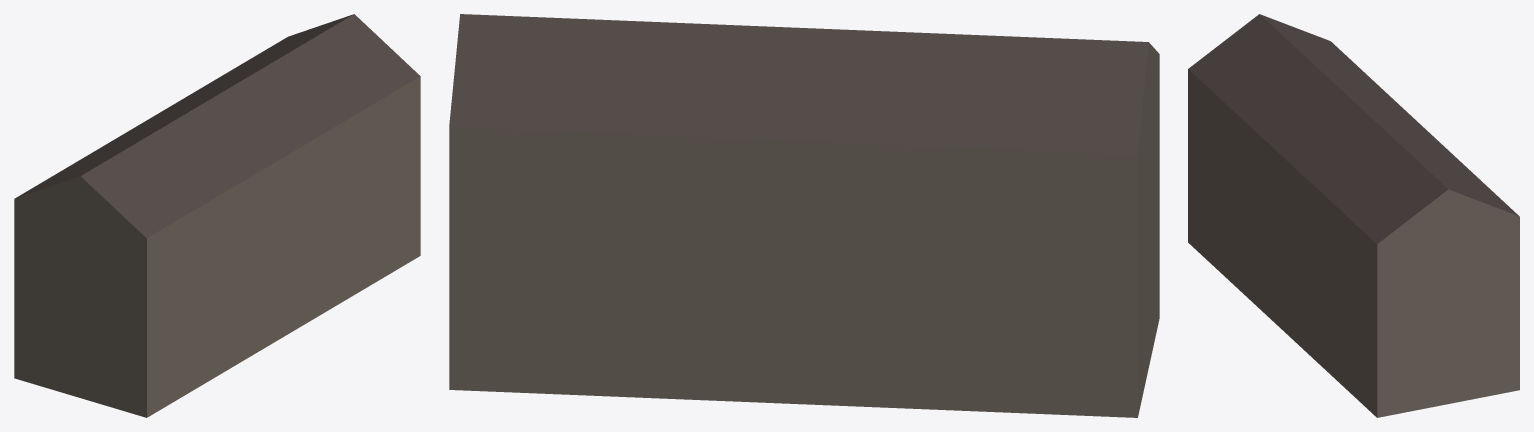
3 views of the same model, side by side, from view 1: azimuth 30°, elevation 25°; view 2: azimuth 150°, elevation 25°; view 3: azimuth 270°, elevation 25° (orthographic). The views are drawn at different scales.
Parts seen in each view (by area): view 1: HP-w389701949; view 2: HP-w389701949; view 3: HP-w389701949.
Boxes of the visible parts, x1,y1,x2,y2 form: HP-w389701949: [14, 14, 420, 417]; HP-w389701949: [449, 14, 1159, 417]; HP-w389701949: [1188, 14, 1519, 417].
Size of the model in its own units: 15.05 by 7.42 by 10.39.
